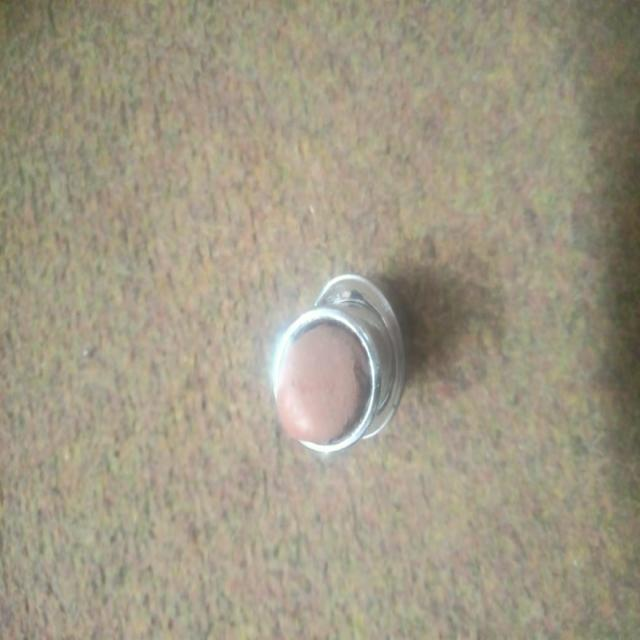concealer: (249, 234, 423, 505)
